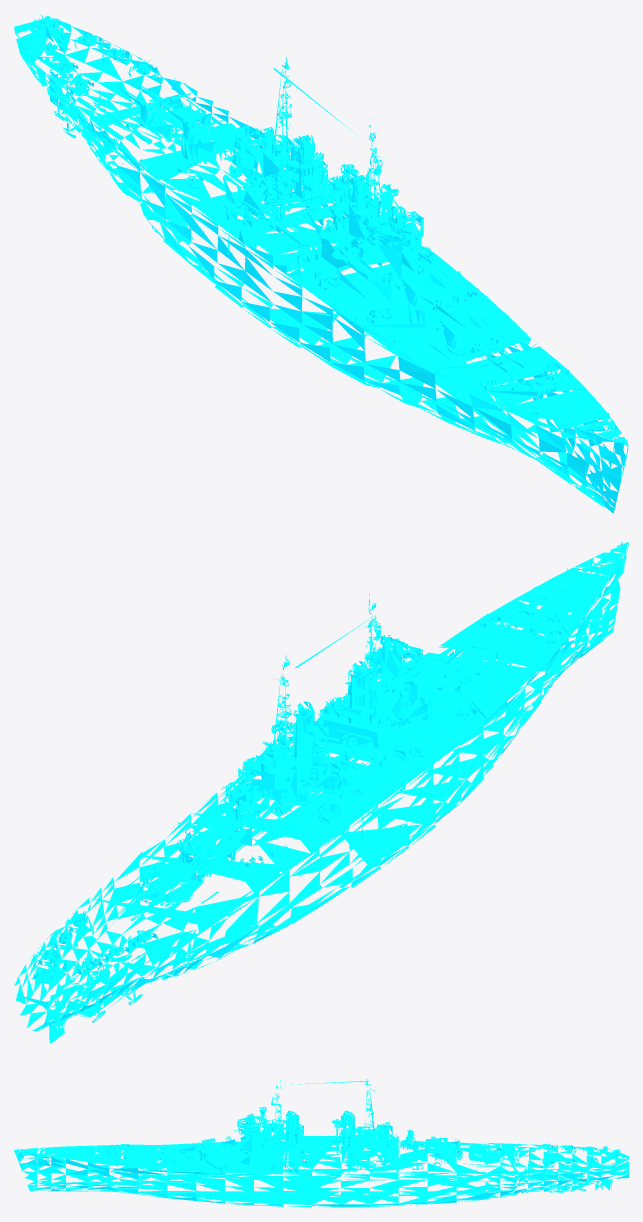
File: Thunderer.glb
3 renders of one model, top to bottom at view 1: azimuth 30°, elevation 25°; view 2: azimuth 150°, elevation 25°; view 3: azimuth 270°, elevation 25°, orthographic. The views are drawn at different scales.
Bounding box in the file's own units: 2.47 × 3.85 × 18.14.
